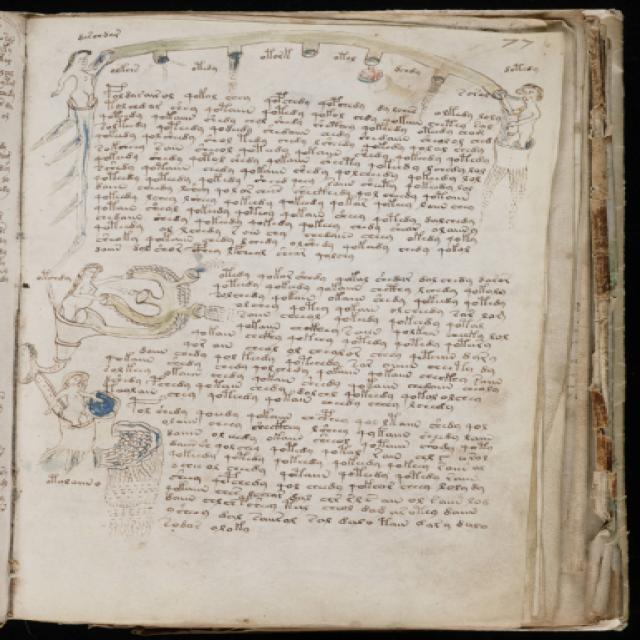person: (493, 81, 553, 146), (43, 368, 102, 430), (54, 261, 106, 329), (50, 49, 102, 113)
